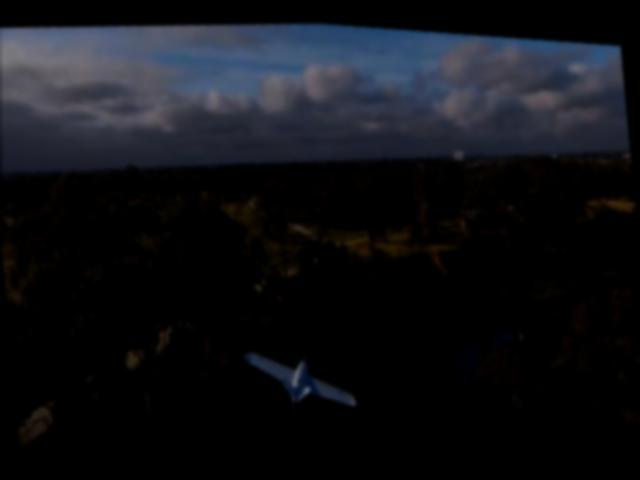iha: (235, 333, 361, 416)
